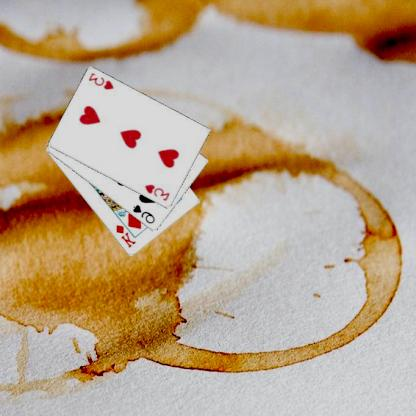3H: (88, 70, 117, 92), (144, 182, 173, 202)
9S: (132, 202, 158, 225)
KD: (115, 222, 139, 250)
